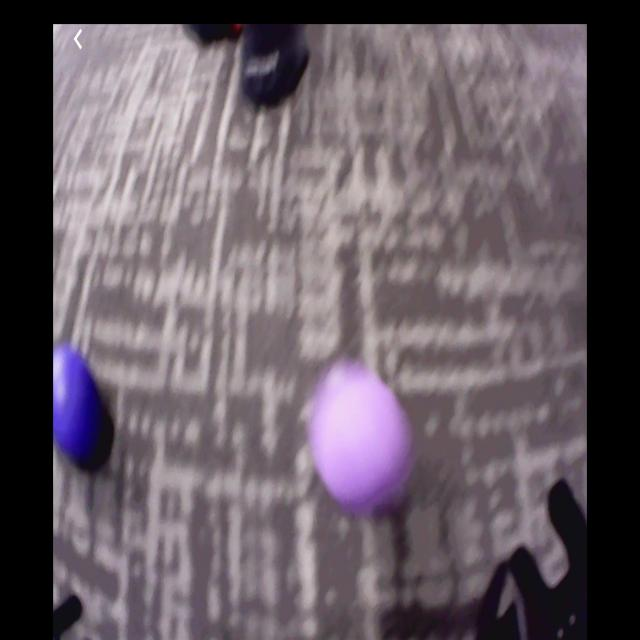ball: (314, 371, 411, 509), (54, 348, 101, 458)
